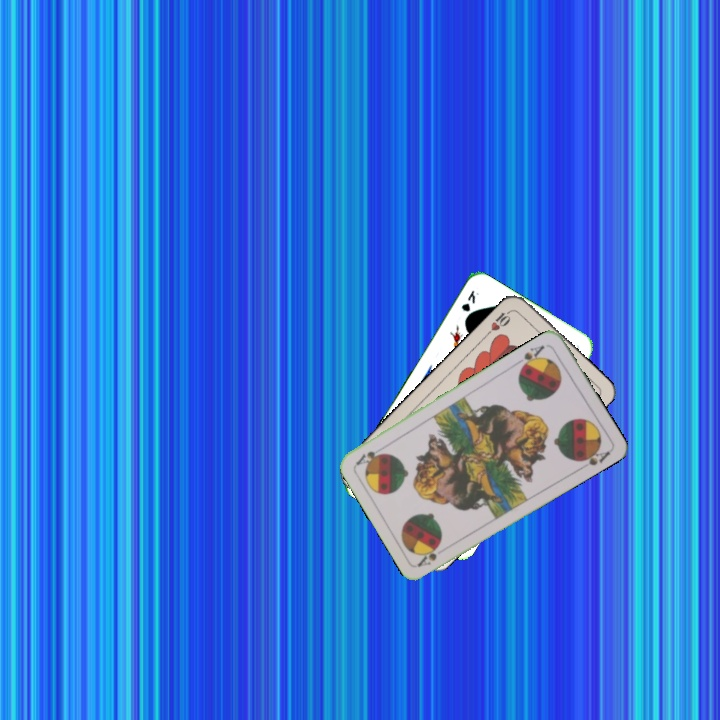GK: (457, 286, 481, 314)
H10: (483, 305, 516, 338)
SA: (512, 341, 547, 373), (414, 540, 443, 569)
